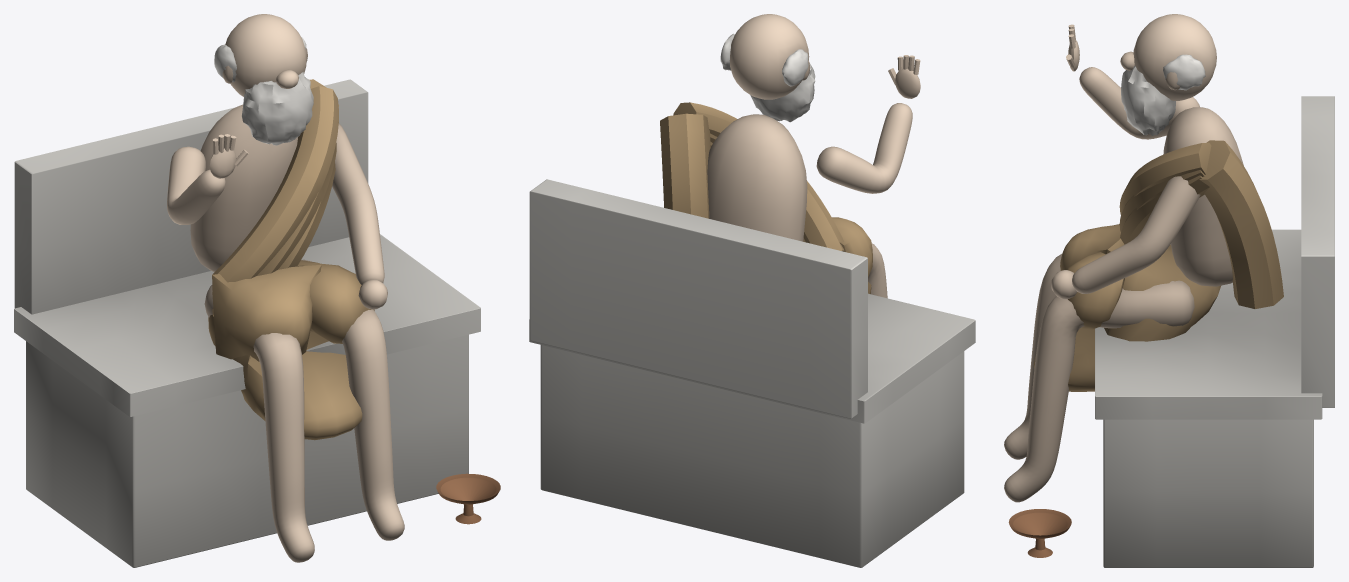
Rendered from obj_kit_sage.glb.
3 renders of one model, left to right at view 1: azimuth 30°, elevation 25°; view 2: azimuth 150°, elevation 25°; view 3: azimuth 270°, elevation 25°, orthographic. The views are drawn at different scales.
Parts seen in each view (by area): view 1: Cube, Cube.002, Cube.001, lap, leg.001, leg, body, drape, Sphere.002, armL, Sphere.004, armR (+5 smaller); view 2: Cube, Cube.002, body, Cube.001, Sphere.002, drapeback, armR, drape, Sphere.004, lap, Sphere.007, leg.001 (+1 smaller); view 3: Cube, Cube.001, Cube.002, leg, lap, drapeback, body, armL, Sphere.002, Sphere.004, drape, armR (+6 smaller).
Boxes of the visible parts, x1=… form: Cube: x1=26, y1=334, x2=468, y2=567; Cube.002: x1=14, y1=79, x2=368, y2=314; Cube.001: x1=14, y1=234, x2=480, y2=416; lap: x1=208, y1=260, x2=374, y2=440; leg.001: x1=204, y1=285, x2=314, y2=562; leg: x1=301, y1=259, x2=404, y2=540; body: x1=190, y1=104, x2=297, y2=272; drape: x1=212, y1=86, x2=338, y2=282; Sphere.002: x1=225, y1=14, x2=306, y2=96; armL: x1=332, y1=123, x2=384, y2=284; Sphere.004: x1=242, y1=72, x2=313, y2=145; armR: x1=167, y1=146, x2=225, y2=224; Cube: x1=540, y1=345, x2=964, y2=567; Cube.002: x1=529, y1=179, x2=867, y2=418; body: x1=707, y1=114, x2=807, y2=241; Cube.001: x1=529, y1=293, x2=975, y2=423; Sphere.002: x1=729, y1=14, x2=809, y2=99; drapeback: x1=660, y1=113, x2=710, y2=218; armR: x1=816, y1=103, x2=912, y2=193; drape: x1=673, y1=102, x2=844, y2=251; Sphere.004: x1=750, y1=63, x2=815, y2=122; lap: x1=832, y1=217, x2=872, y2=293; Sphere.007: x1=782, y1=49, x2=808, y2=86; leg.001: x1=868, y1=243, x2=887, y2=298; Cube: x1=1103, y1=419, x2=1313, y2=567; Cube.001: x1=1095, y1=229, x2=1322, y2=419; Cube.002: x1=1301, y1=96, x2=1334, y2=407; leg: x1=1004, y1=280, x2=1194, y2=502; lap: x1=1033, y1=224, x2=1220, y2=391; drapeback: x1=1199, y1=140, x2=1283, y2=308; body: x1=1163, y1=107, x2=1243, y2=286; armL: x1=1072, y1=176, x2=1200, y2=293; Sphere.002: x1=1133, y1=14, x2=1216, y2=100; Sphere.004: x1=1121, y1=66, x2=1175, y2=135; drape: x1=1119, y1=142, x2=1211, y2=214; armR: x1=1079, y1=67, x2=1199, y2=139.
Size of the model in its own units: 0.94 by 1.23 by 0.7862.
